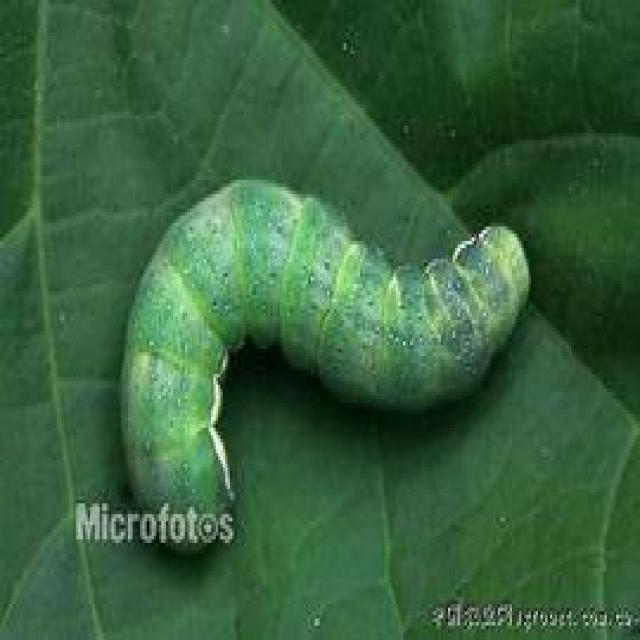BeetArmyWorm-Larva-: (87, 147, 543, 563)
